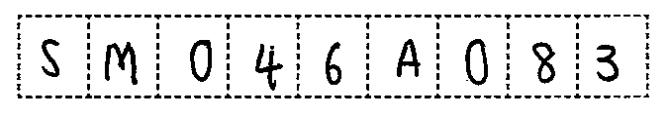0: (459, 33, 495, 87), (183, 34, 216, 85)
3: (589, 40, 624, 85)
4: (248, 40, 286, 92)
6: (317, 38, 355, 88)
8: (526, 36, 563, 87)
A: (391, 34, 424, 83)
M: (98, 37, 145, 88)
S: (34, 35, 66, 82)
